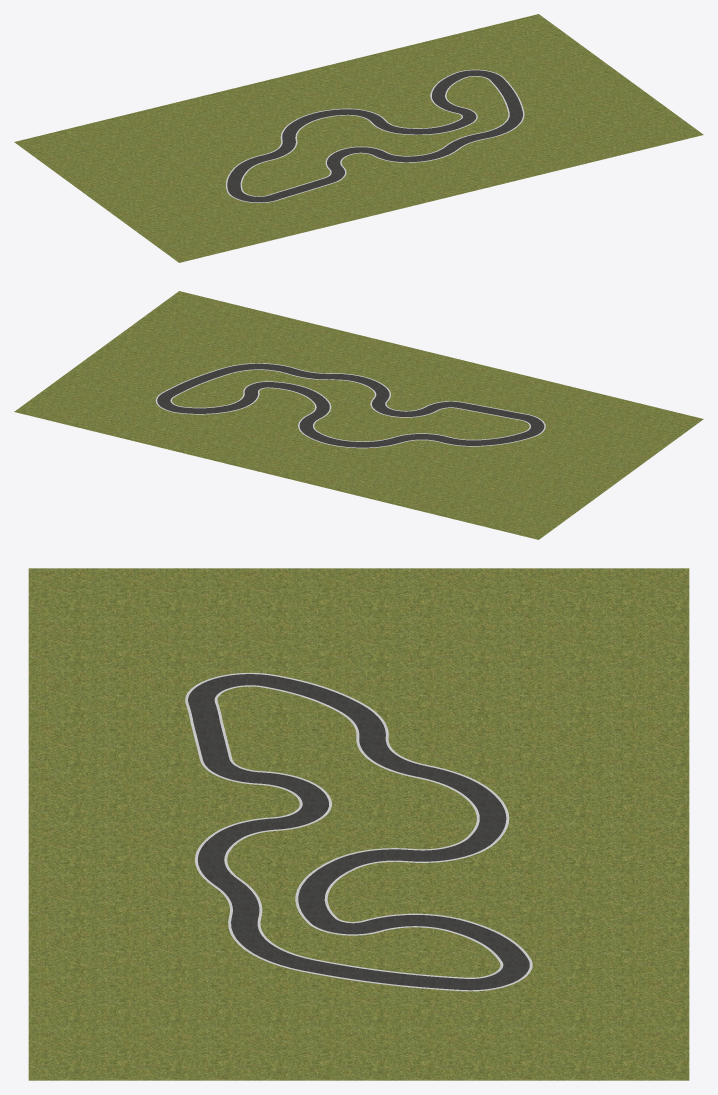
The model's file is track8.dae.
3 renders of one model, top to bottom at view 1: azimuth 30°, elevation 25°; view 2: azimuth 150°, elevation 25°; view 3: azimuth 270°, elevation 25°, orthographic. The views are drawn at different scales.
Parts seen in each view (by area): view 1: field, road, outerline, innerline; view 2: field, road, outerline, innerline; view 3: field, road, outerline, innerline.
Part boxes in pixels (x1,y1,x2,y2): field: (14, 14, 703, 262); road: (227, 70, 522, 202); outerline: (226, 69, 524, 202); innerline: (240, 76, 509, 196); field: (14, 291, 703, 539); road: (157, 363, 544, 447); outerline: (155, 363, 545, 448); innerline: (170, 369, 530, 441); field: (28, 568, 689, 1080); road: (188, 674, 529, 990); outerline: (185, 672, 532, 991); innerline: (214, 685, 503, 978).
Size of the model in its own units: 74.83 by 40.8 by 0.01.
3 materials, 3 textured.
